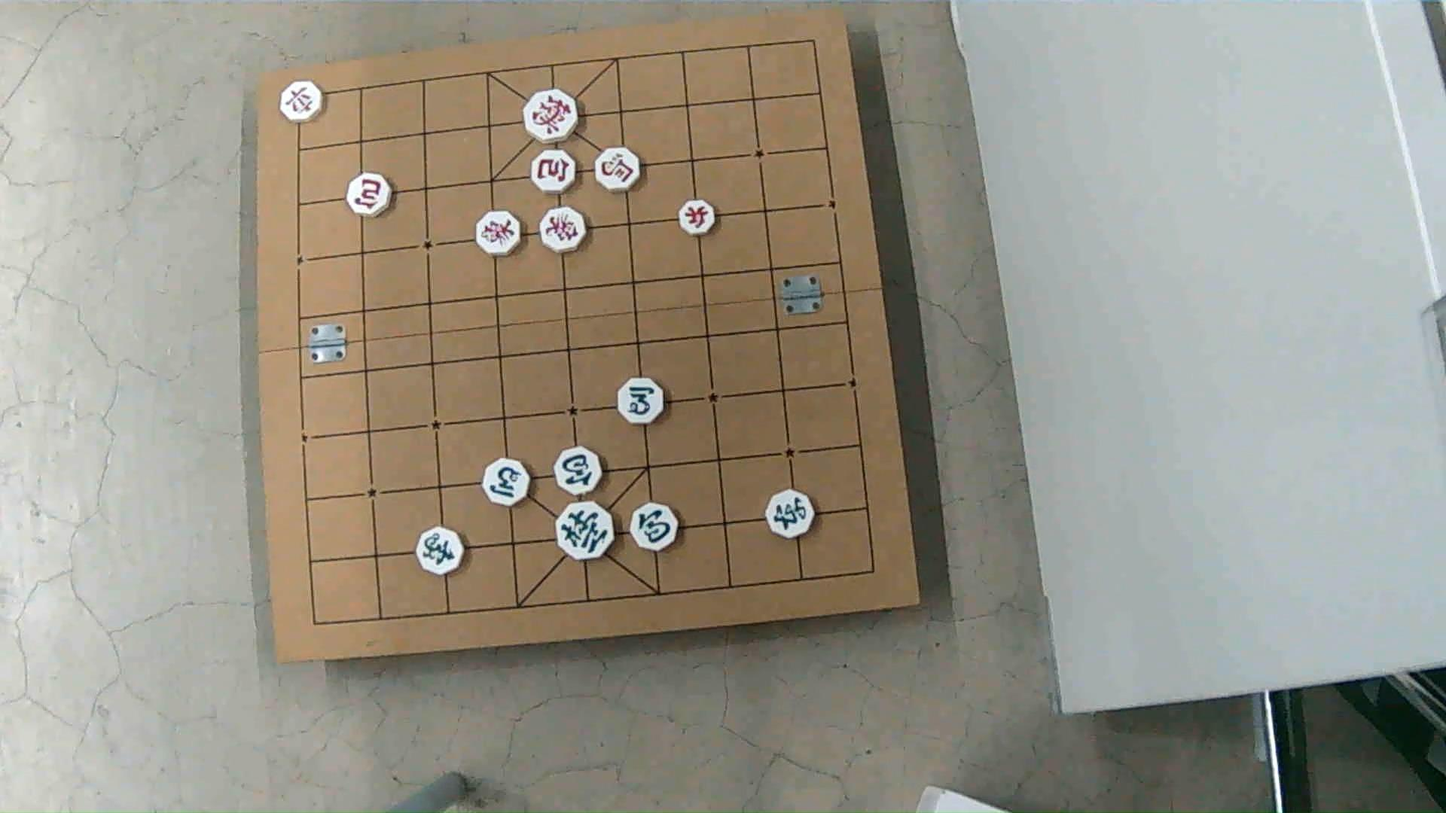cha_green: (767, 491, 816, 539)
cha_red: (280, 80, 322, 121)
jol_red: (678, 201, 713, 236)
ma_green: (618, 377, 666, 424), (481, 460, 529, 507)
ma_red: (598, 147, 643, 190)
po_green: (555, 446, 603, 495), (630, 505, 678, 553)
po_red: (532, 152, 577, 195), (349, 172, 394, 215)
sang_green: (417, 527, 465, 574)
sang_red: (540, 208, 587, 254), (474, 212, 520, 257)
wang_green: (558, 502, 616, 561)
wang_red: (525, 92, 579, 144)
